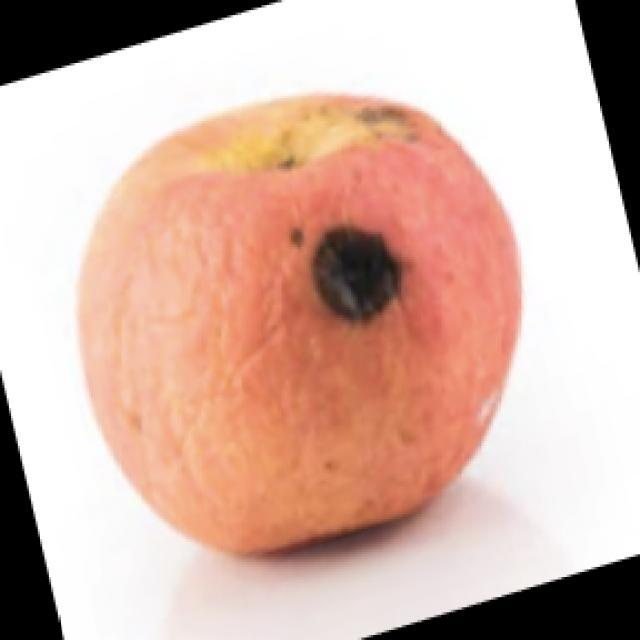Rotten: (86, 97, 502, 533)
